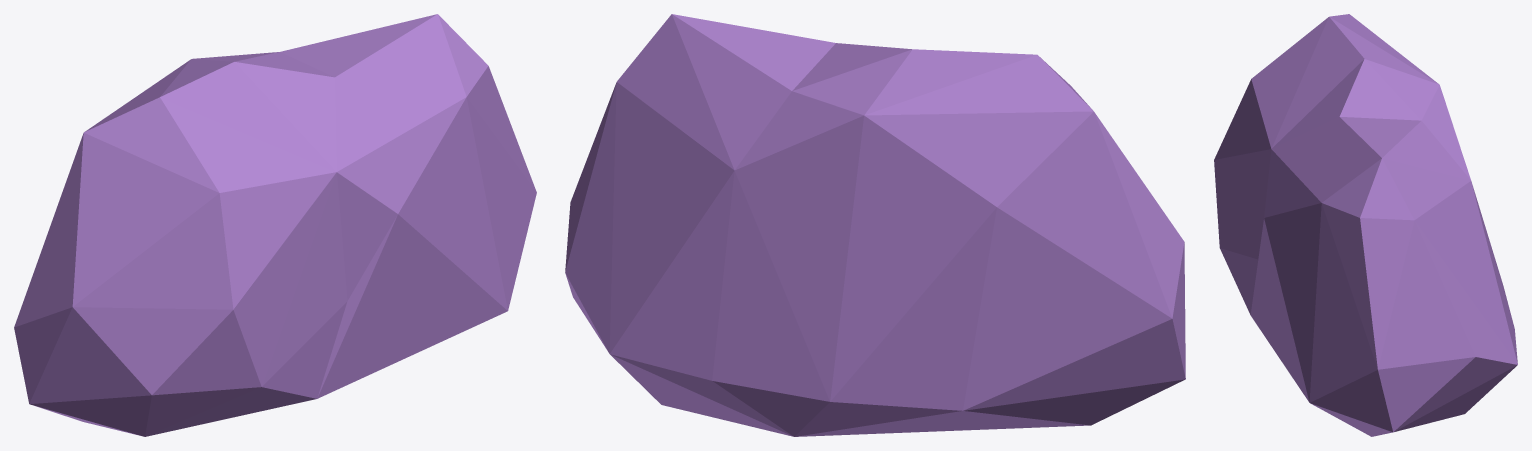
File: rock5.fbx
3 views of the same model, side by side, from view 1: azimuth 30°, elevation 25°; view 2: azimuth 150°, elevation 25°; view 3: azimuth 270°, elevation 25° (orthographic). The views are drawn at different scales.
Parts seen in each view (by area): view 1: rock3; view 2: rock3; view 3: rock3.
Part boxes in pixels (<box>): rock3: <box>14,14,536,436</box>; rock3: <box>565,14,1185,436</box>; rock3: <box>1214,14,1517,436</box>.
Bounding box in the file's own units: 439 × 258 × 250.
